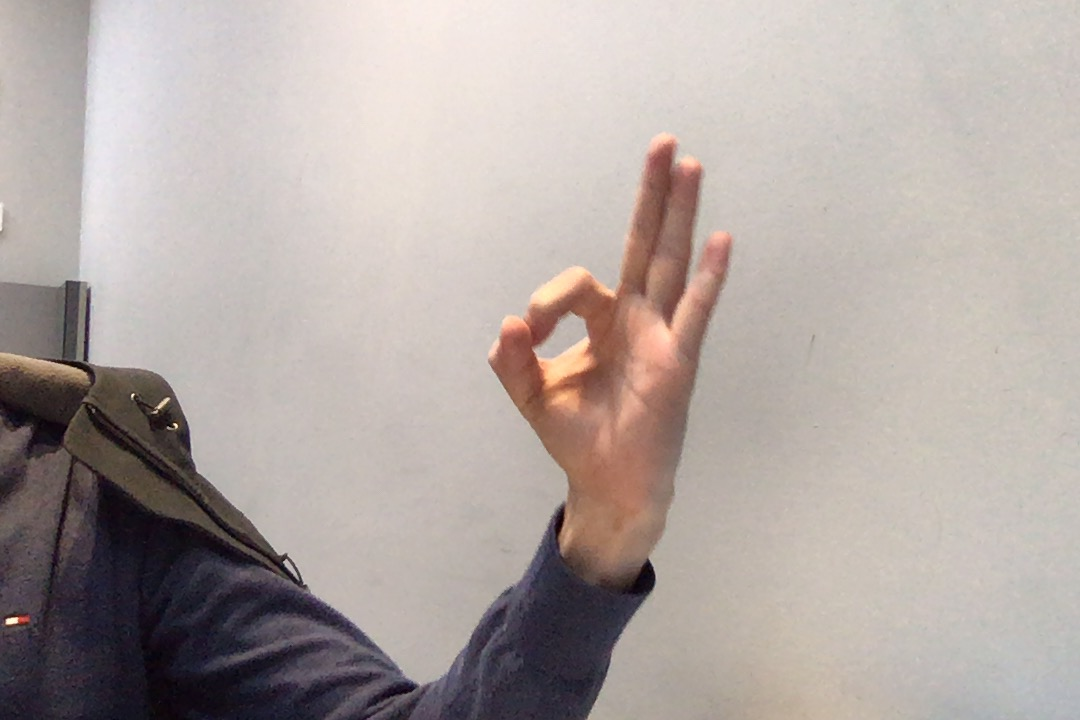oksign: (476, 125, 746, 517)
